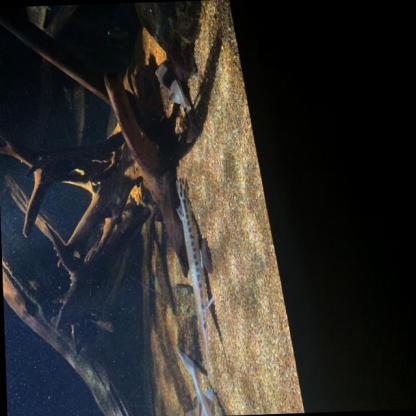fish: (175, 174, 216, 392)
shark: (154, 59, 202, 143), (176, 344, 226, 416)
